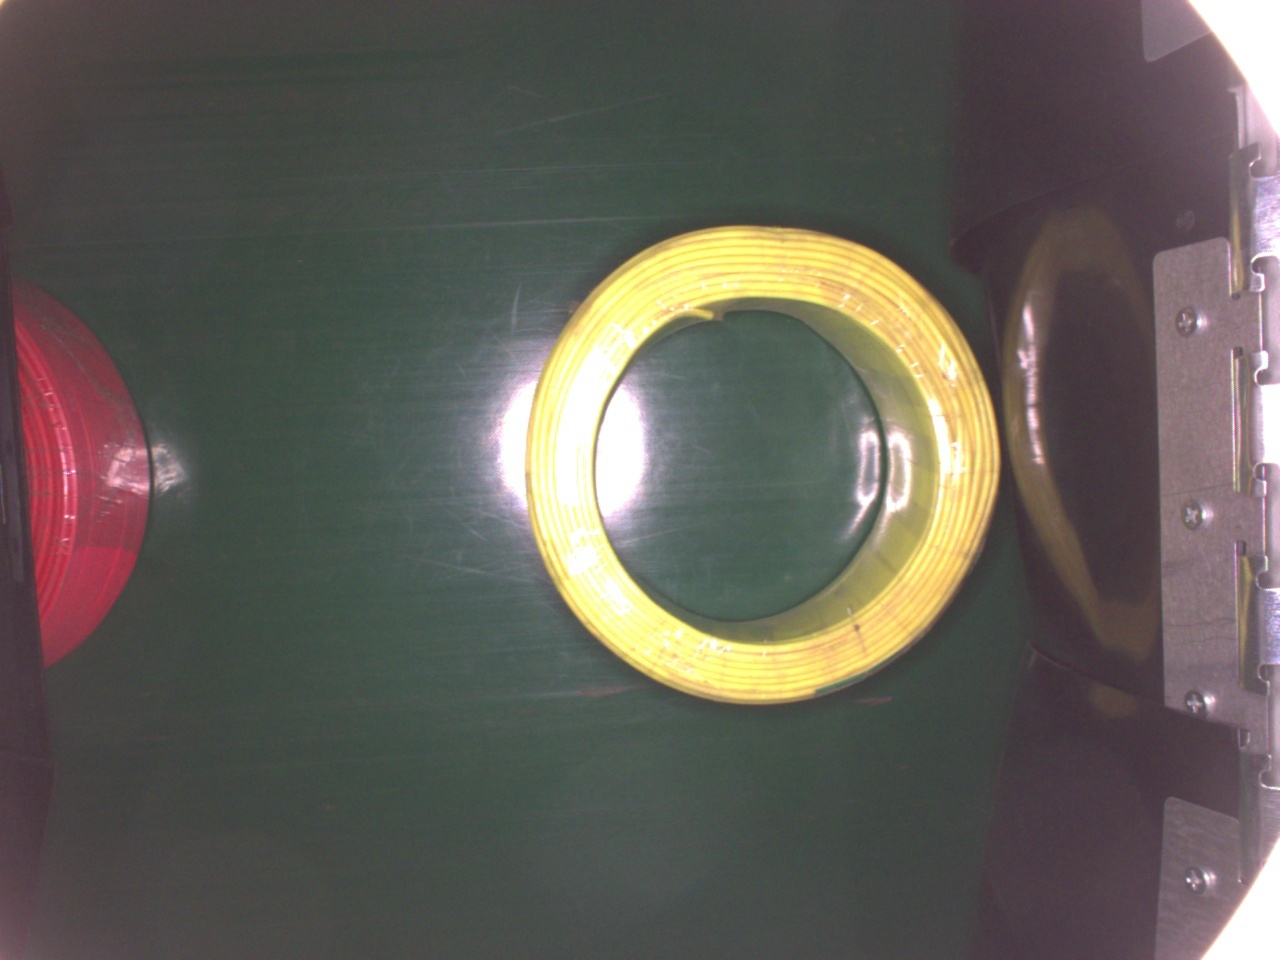yellow: (519, 224, 1012, 718)
